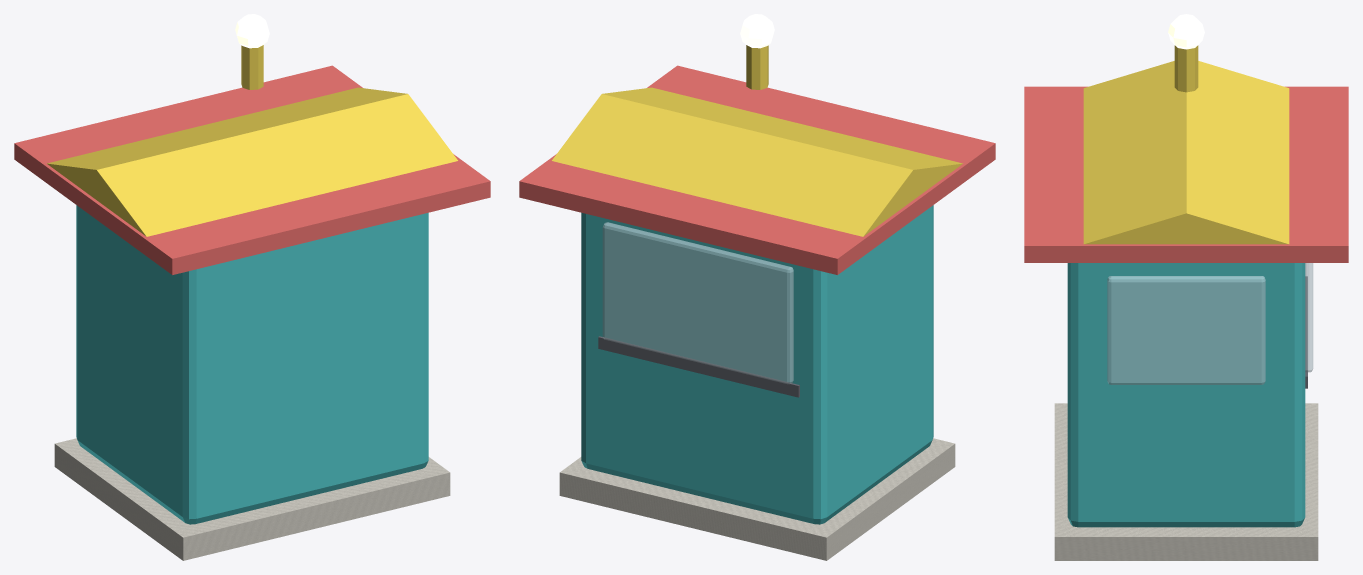
Rendered from theme-park-rides-and-coasters-theme-park-rides-and-coa-93ae5128__28673.glb.
The picture shows the model from 3 angles, left to right: view 1: azimuth 30°, elevation 25°; view 2: azimuth 150°, elevation 25°; view 3: azimuth 270°, elevation 25°; orthographic projection. The views are drawn at different scales.
Parts seen in each view (by area): view 1: theme-park-rides-and-coasters-ride-operator-booth; view 2: theme-park-rides-and-coasters-ride-operator-booth; view 3: theme-park-rides-and-coasters-ride-operator-booth.
Part boxes in pixels (x1,y1,x2,y2): theme-park-rides-and-coasters-ride-operator-booth: (14,14,490,560); theme-park-rides-and-coasters-ride-operator-booth: (519,14,995,560); theme-park-rides-and-coasters-ride-operator-booth: (1024,14,1348,560).
Bounding box in the file's own units: 2.86 × 4 × 2.46.
Materials: 7 (1 with a texture image).
